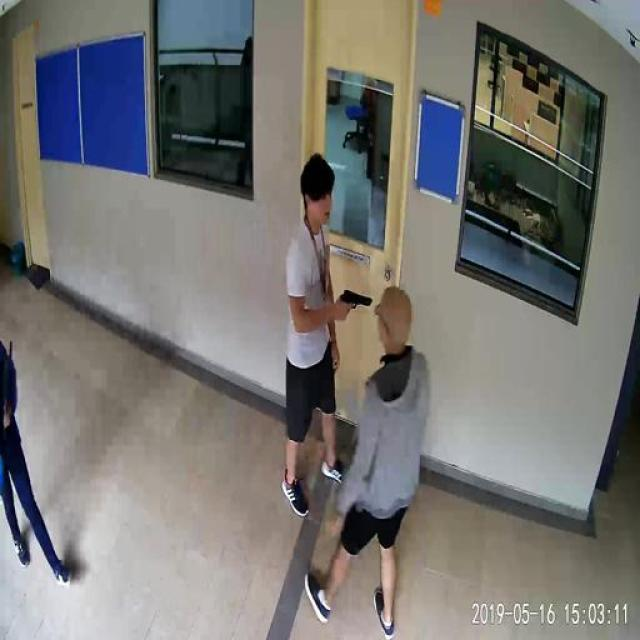Gun: (332, 282, 373, 326)
